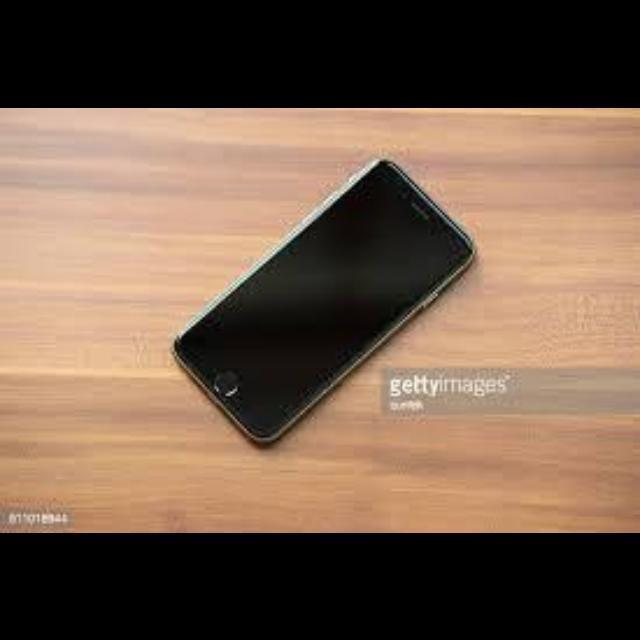PhoneUse: (169, 157, 476, 447)
